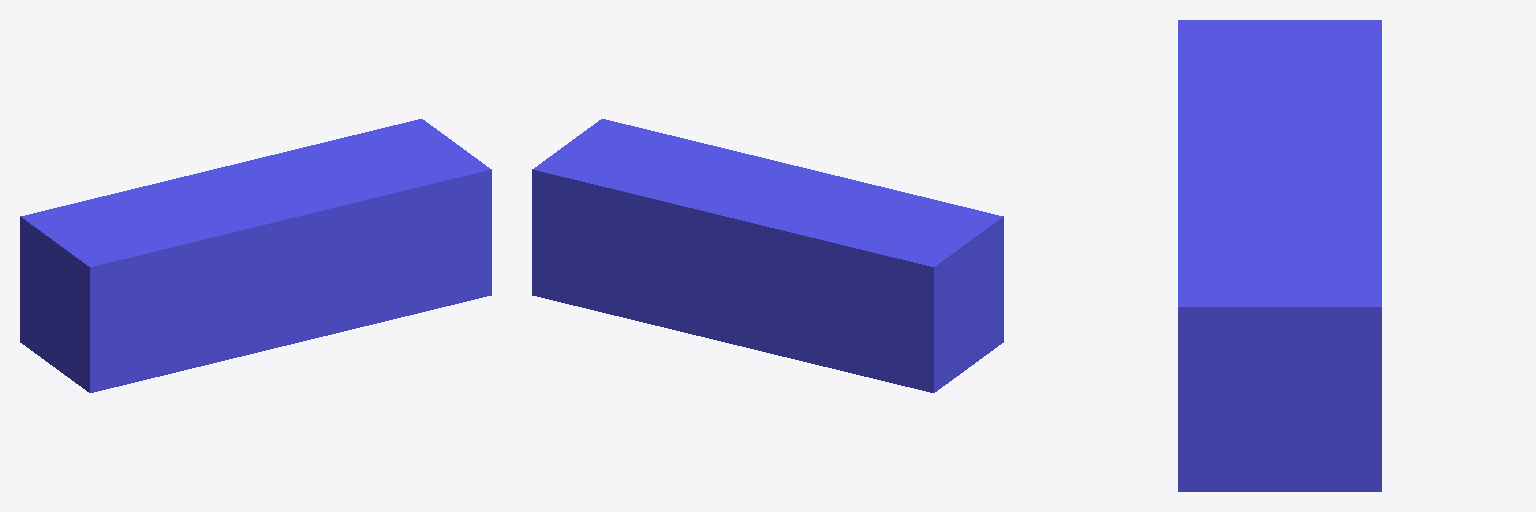
The robot description file, URDF, robot "block":
<robot name="block">
  <link name="block">
    <visual>
      <origin xyz="0 0 0"/>
      <geometry>
        <box size="0.2 0.060 0.060" />
      </geometry>
      <material name="red">
        <color rgba="0.4 0.4 1.0 1.0"/>
      </material>
    </visual>

    <collision>
      <origin xyz="0 0 0"/>
      <geometry>
        <box size="0.2 0.060 0.060" />
      </geometry>
    </collision>
<contact>
      <lateral_friction value="1.0"/>
      <rolling_friction value="0.0001"/>
      <inertia_scaling value="3.0"/>
    </contact>
    <inertial>
      <origin rpy="0 0 0" xyz="0 0 0"/>
       <mass value="0.1"/>
       <inertia ixx="1" ixy="0" ixz="0" iyy="1" iyz="0" izz="1"/>
    </inertial>
  </link>


</robot>

--- What the picture shows (computed from the rendered views, not written in the file) ---
Views: 3 orthographic renders of the robot side by side, from view 1: azimuth 30°, elevation 25°; view 2: azimuth 150°, elevation 25°; view 3: azimuth 270°, elevation 25°.
Model block with 1 links and 0 joints (none), rooted at block, posed all joints at 0.
Visible links, largest first — view 1: block; view 2: block; view 3: block.
Boxes of the visible links, <box> form: block: <box>20,119,491,392</box>; block: <box>532,119,1003,392</box>; block: <box>1178,20,1381,491</box>.
Bounding box of the posed robot: 0.2 × 0.06 × 0.06 m (x, y, z).
Geometry: primitives only (box / cylinder / sphere), no mesh files.